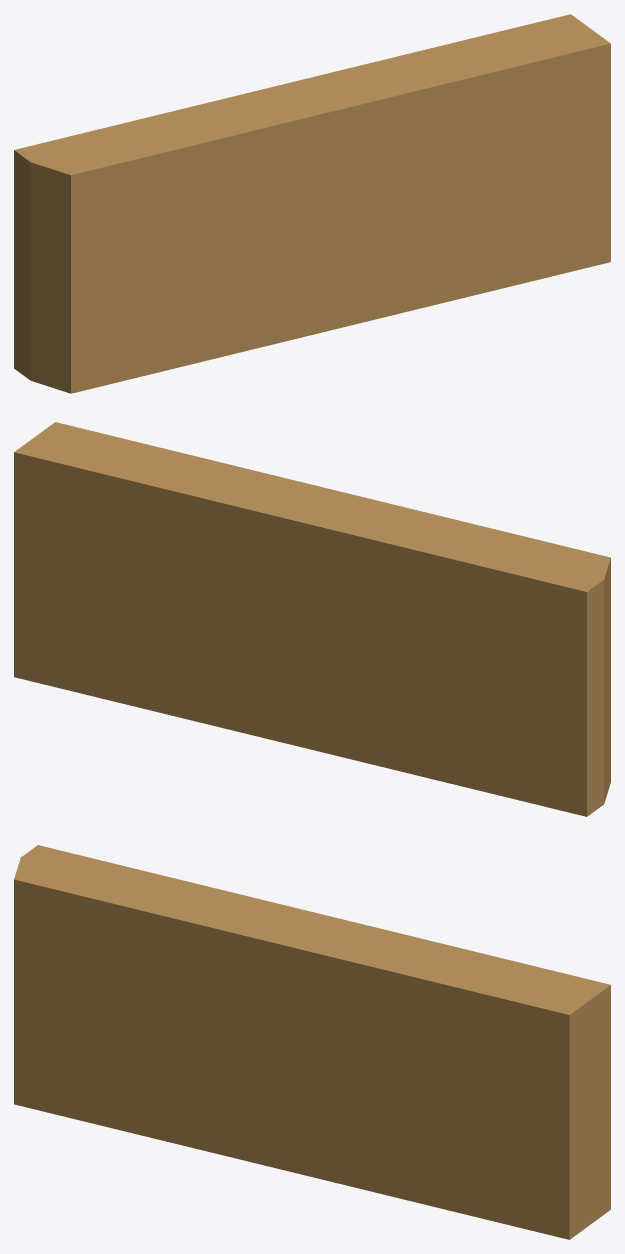
3 views of the same model, one above another, from view 1: azimuth 30°, elevation 25°; view 2: azimuth 150°, elevation 25°; view 3: azimuth 330°, elevation 25° (orthographic). The views are drawn at different scales.
Parts seen in each view (by area): view 1: shape; view 2: shape; view 3: shape.
Part boxes in pixels (box(x1,y1,x2,y2)): shape: box(14, 14, 610, 393); shape: box(14, 422, 610, 816); shape: box(14, 845, 610, 1239).
Bounding box in the file's own units: 0.4 × 0.15 × 0.05.
